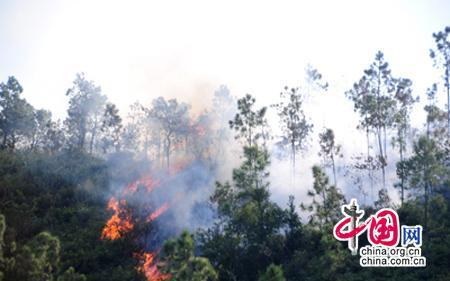fire: (87, 124, 223, 279)
